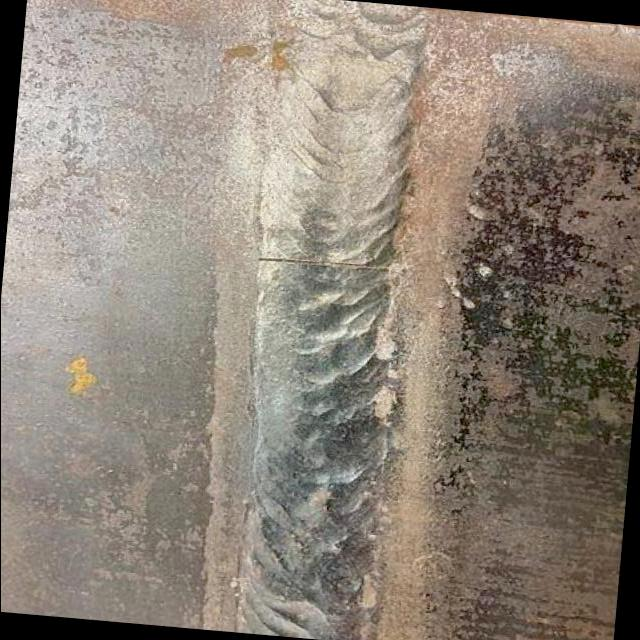defect: (245, 254, 385, 274)
